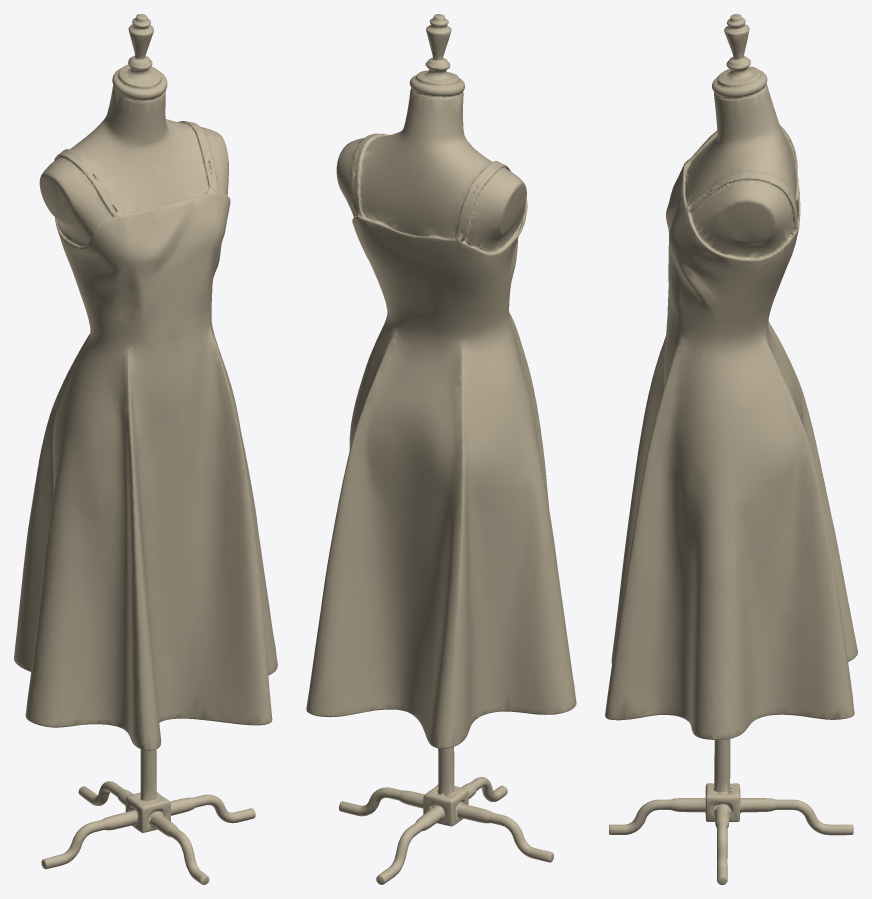
The model's file is gen-dress-form-mannequin-1.glb.
3 views of the same model, side by side, from view 1: azimuth 30°, elevation 25°; view 2: azimuth 150°, elevation 25°; view 3: azimuth 270°, elevation 25° (orthographic).
Visible parts, largest first — view 1: gen-dress-form-mannequin-1_part1; view 2: gen-dress-form-mannequin-1_part1; view 3: gen-dress-form-mannequin-1_part1.
Part boxes in pixels (x1,y1,x2,y2): gen-dress-form-mannequin-1_part1: (14, 14, 277, 884); gen-dress-form-mannequin-1_part1: (306, 14, 576, 884); gen-dress-form-mannequin-1_part1: (605, 14, 857, 884).
Size of the model in its own units: 540 by 1720 by 481.
